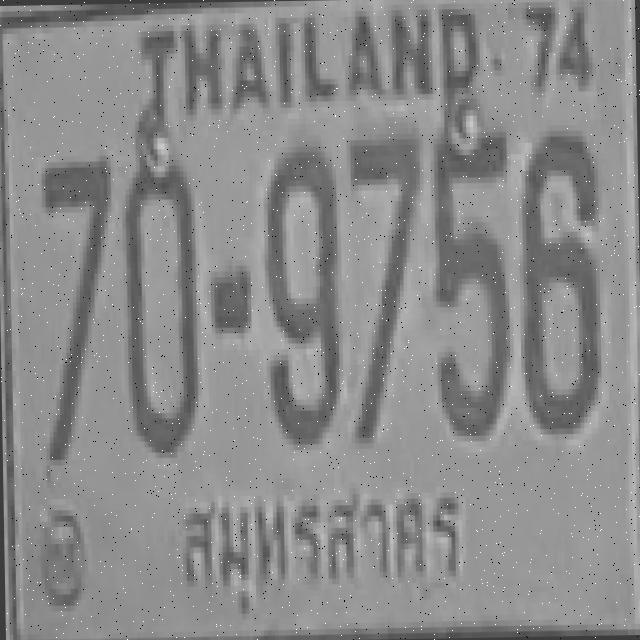0: (122, 154, 200, 453)
5: (430, 123, 508, 433)
6: (516, 124, 598, 428)
7: (348, 128, 422, 438), (40, 155, 114, 459), (348, 128, 420, 348), (41, 152, 114, 356), (346, 127, 418, 326)
9: (262, 140, 340, 439)
SamutSakhon: (160, 473, 476, 622)
